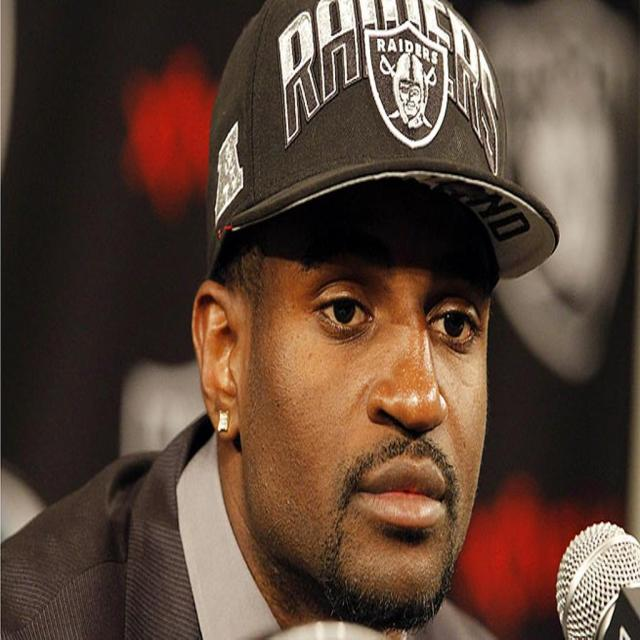Face: (223, 159, 500, 630)
